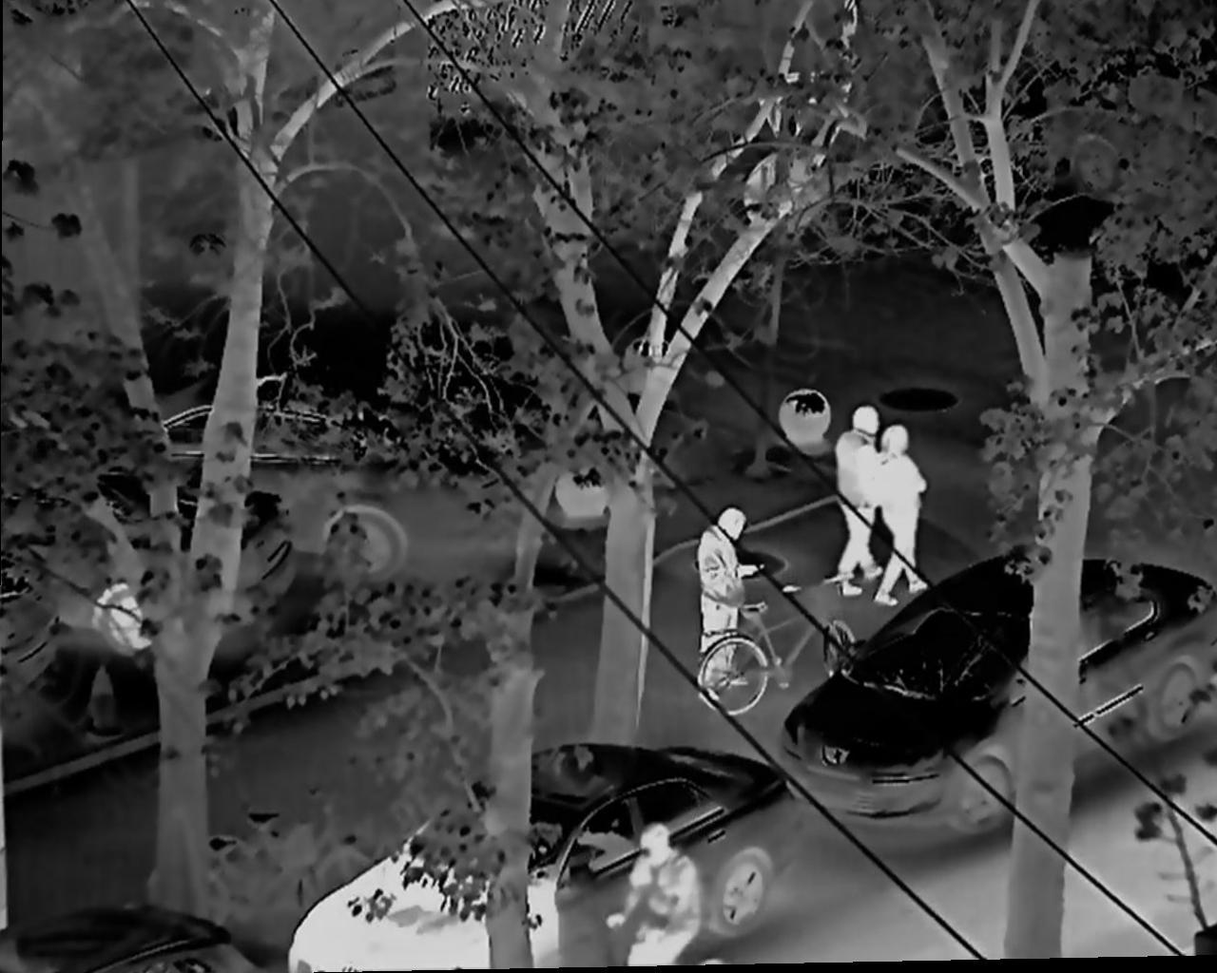person: (605, 823, 702, 973), (696, 507, 763, 707), (871, 426, 931, 605), (832, 404, 885, 596)
